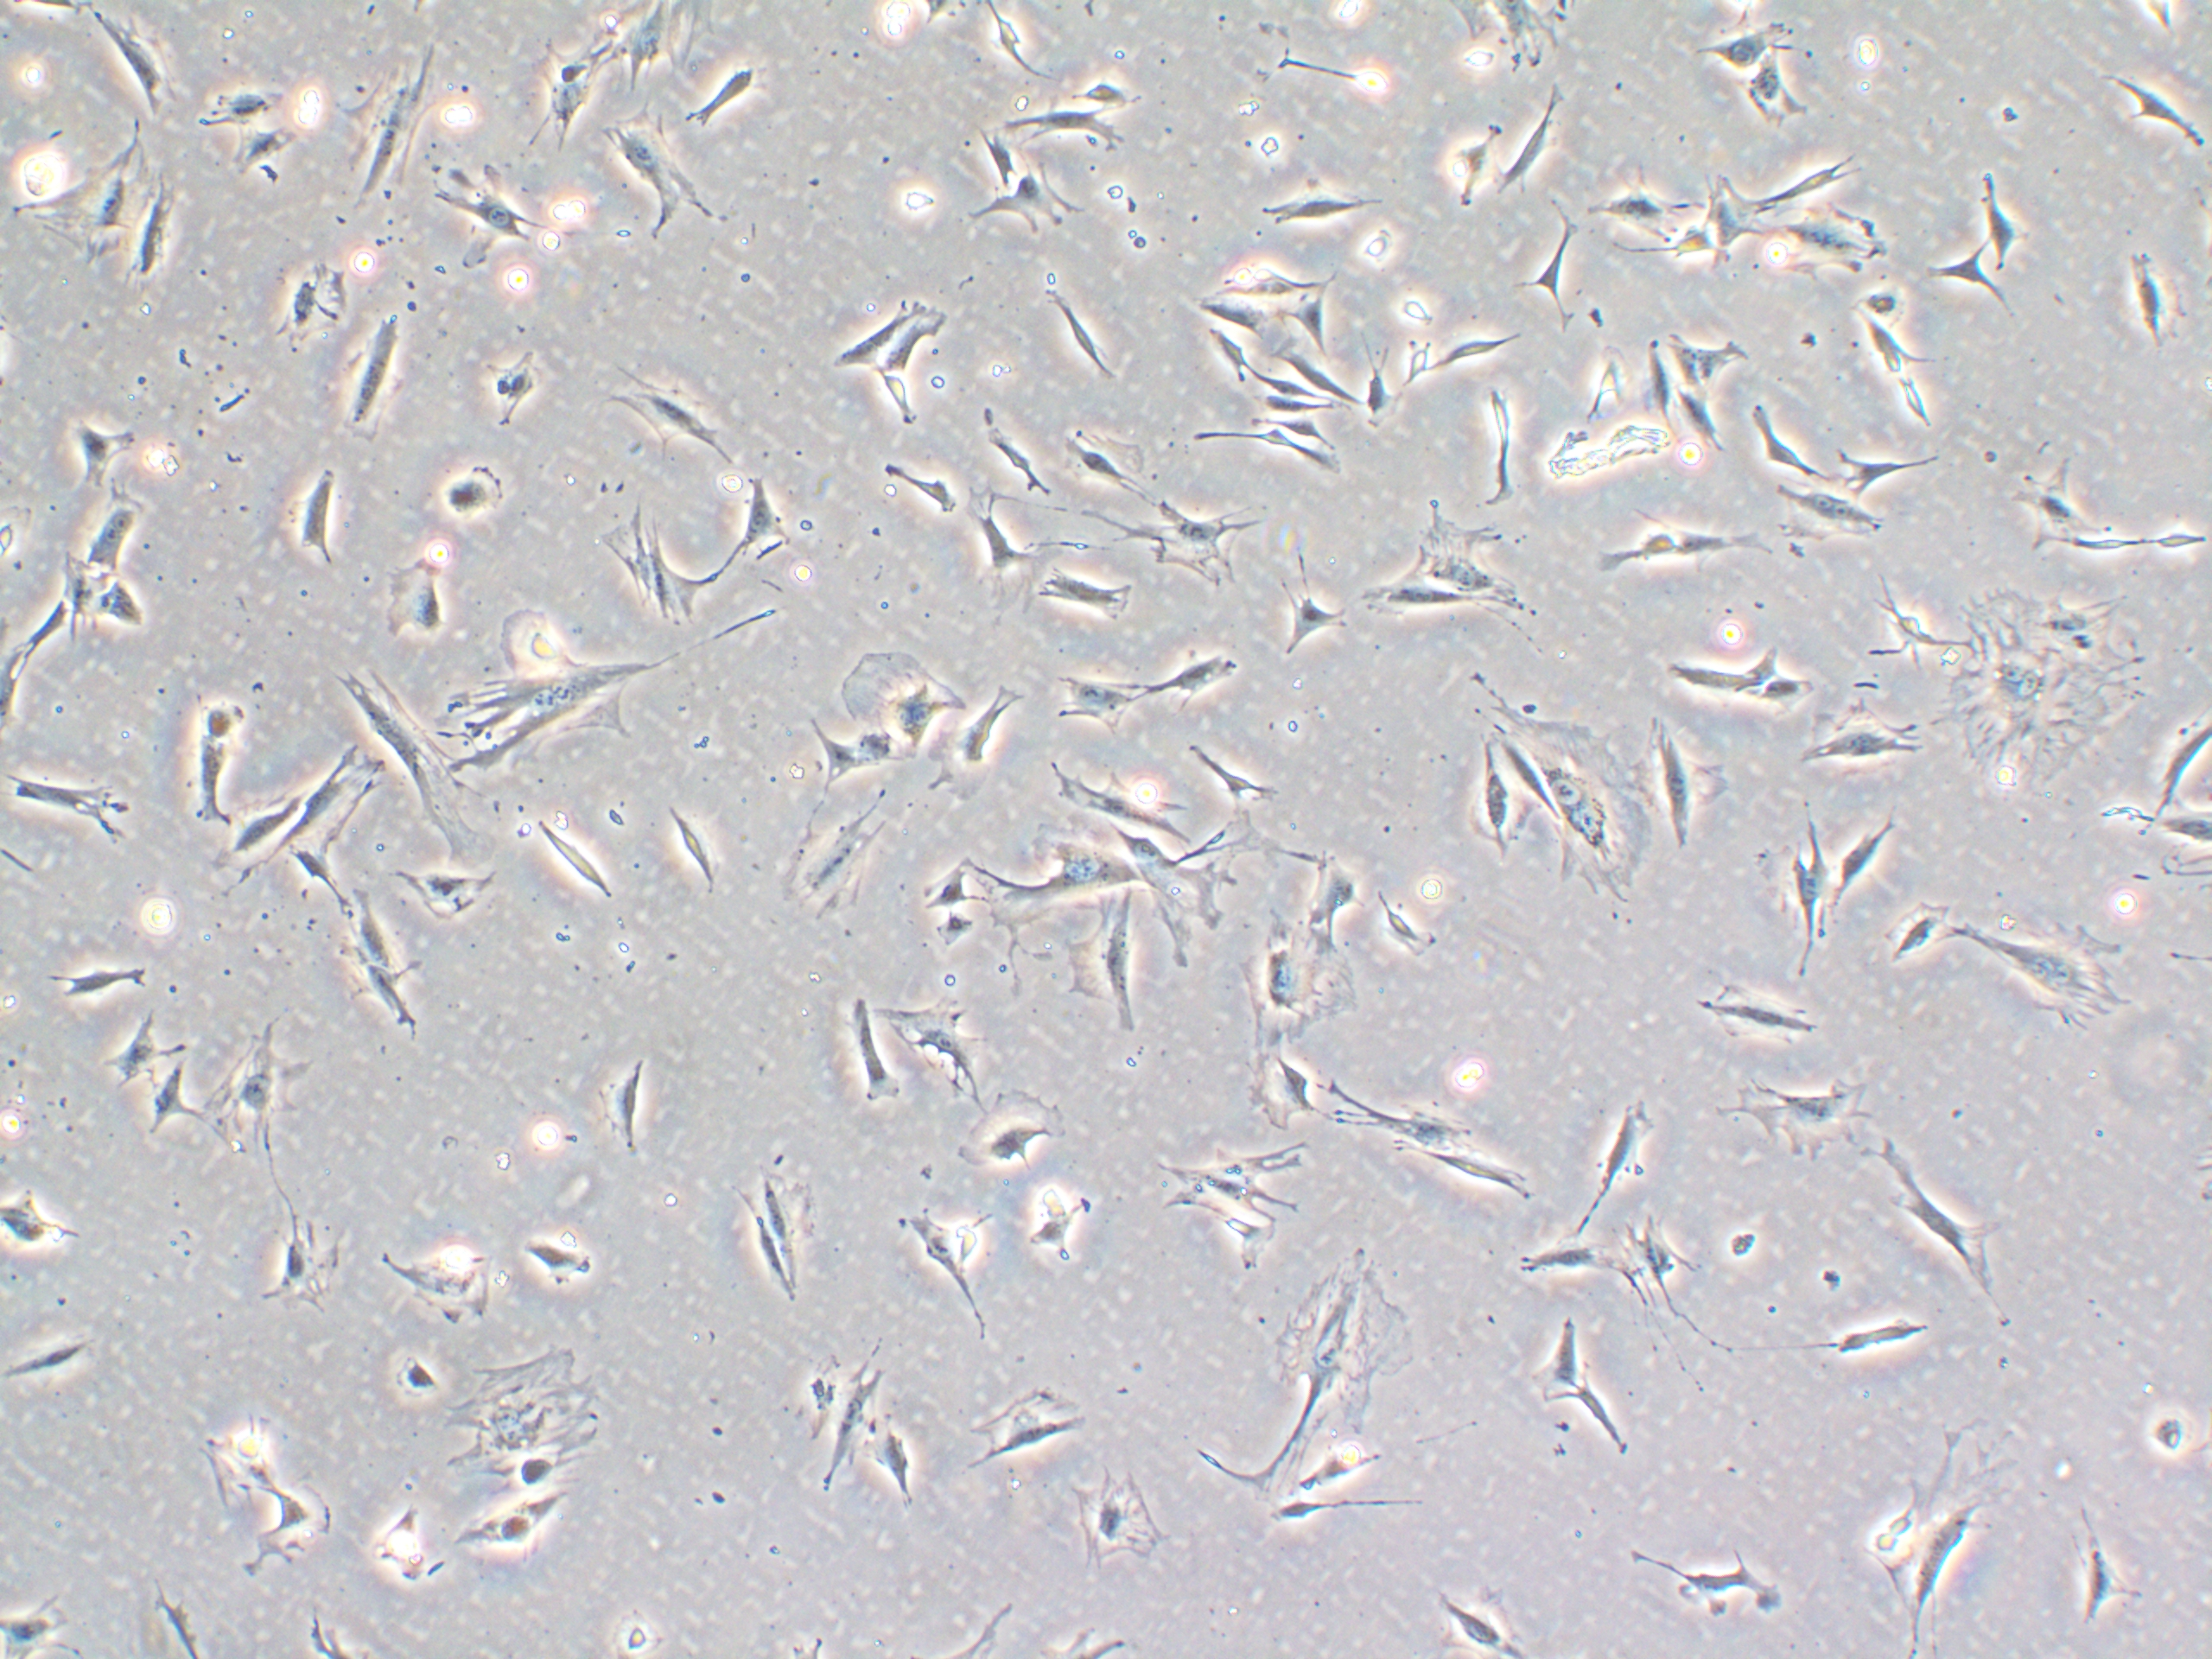small: (2125, 1373, 2202, 1480), (1336, 206, 1416, 281), (1057, 58, 1134, 112), (1844, 277, 1916, 333), (1367, 286, 1449, 333), (606, 1603, 664, 1659), (0, 502, 42, 563)
spread: (1214, 1239, 1426, 1530), (1925, 563, 2165, 810), (1366, 495, 1595, 688), (1848, 1398, 2026, 1642), (1498, 690, 1658, 915), (467, 606, 660, 774), (442, 1326, 624, 1492), (14, 118, 183, 284), (1956, 904, 2146, 1047), (345, 657, 484, 847), (1217, 917, 1374, 1077), (1035, 1434, 1183, 1591), (334, 37, 451, 225), (263, 737, 388, 894), (984, 819, 1148, 938), (1728, 1063, 1904, 1173), (601, 108, 744, 242), (202, 1012, 326, 1166), (1109, 829, 1235, 978), (765, 793, 897, 929), (836, 638, 968, 772), (1754, 192, 1902, 288)
